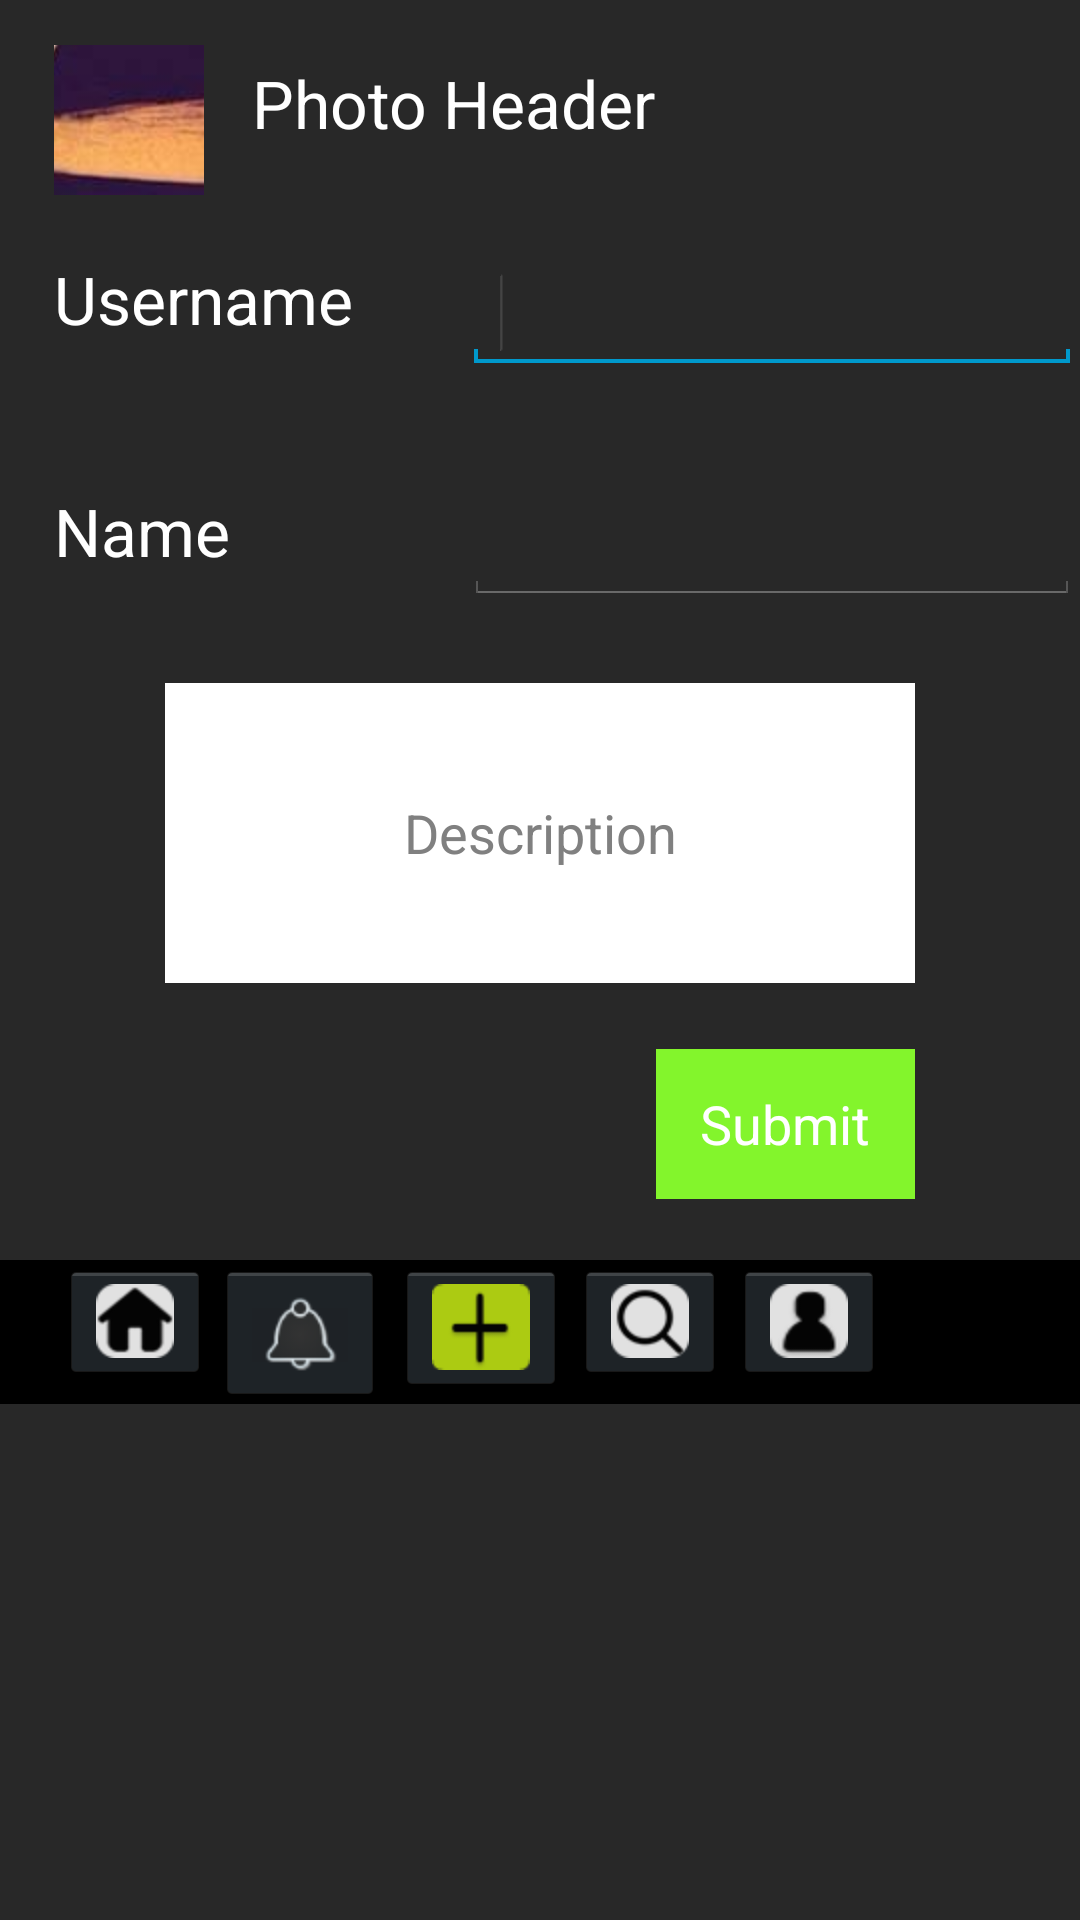

Where to tap for icons on this 1080*1920 app screen, as (x,y):
addrad: (481,1328)
bell: (300,1333)
bgheader: (129,120)
homeicon: (135,1322)
search: (650,1322)
user: (809,1322)
